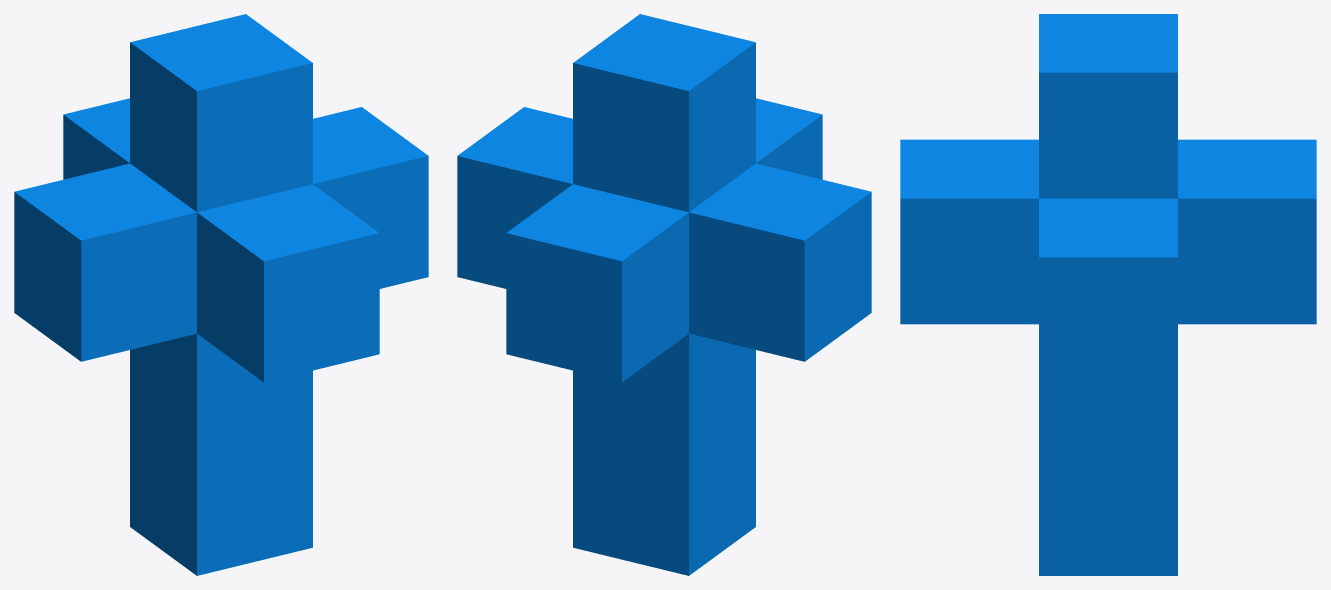
The model's file is VoxelEffects_BigBullet_01.FBX.
3 views of the same model, side by side, from view 1: azimuth 30°, elevation 25°; view 2: azimuth 150°, elevation 25°; view 3: azimuth 270°, elevation 25° (orthographic). The views are drawn at different scales.
Parts seen in each view (by area): view 1: VoxelEffects_BigBullet_01; view 2: VoxelEffects_BigBullet_01; view 3: VoxelEffects_BigBullet_01.
Boxes of the visible parts, <box> form: VoxelEffects_BigBullet_01: <box>14,14,428,575</box>; VoxelEffects_BigBullet_01: <box>457,14,871,575</box>; VoxelEffects_BigBullet_01: <box>900,14,1316,575</box>.
Bounding box in the file's own units: 30 × 40 × 30.
